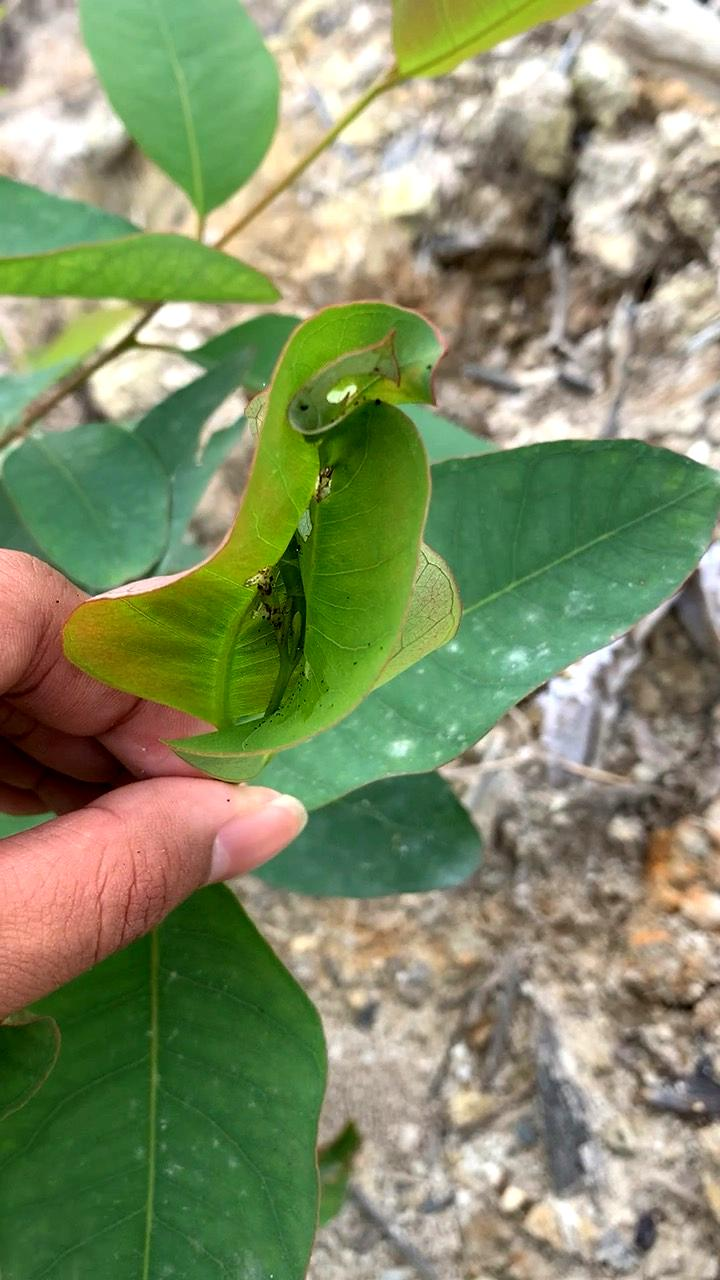Leaf Roller - Leaf: (51, 283, 488, 822)
